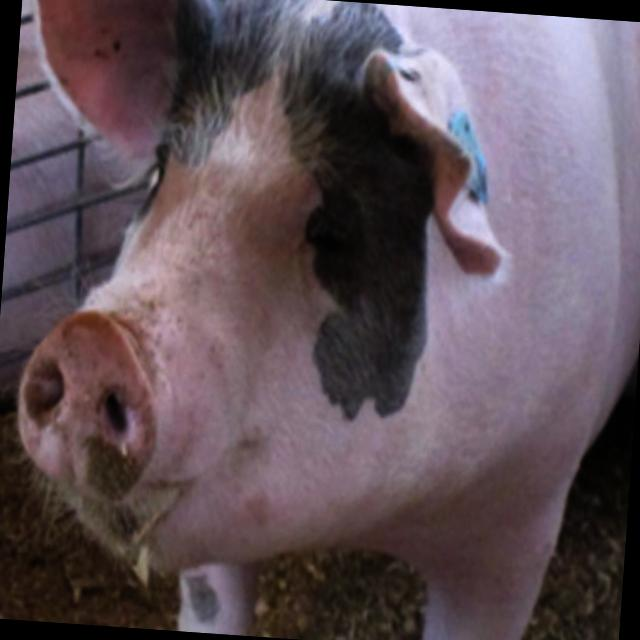pig: (17, 0, 640, 640)
